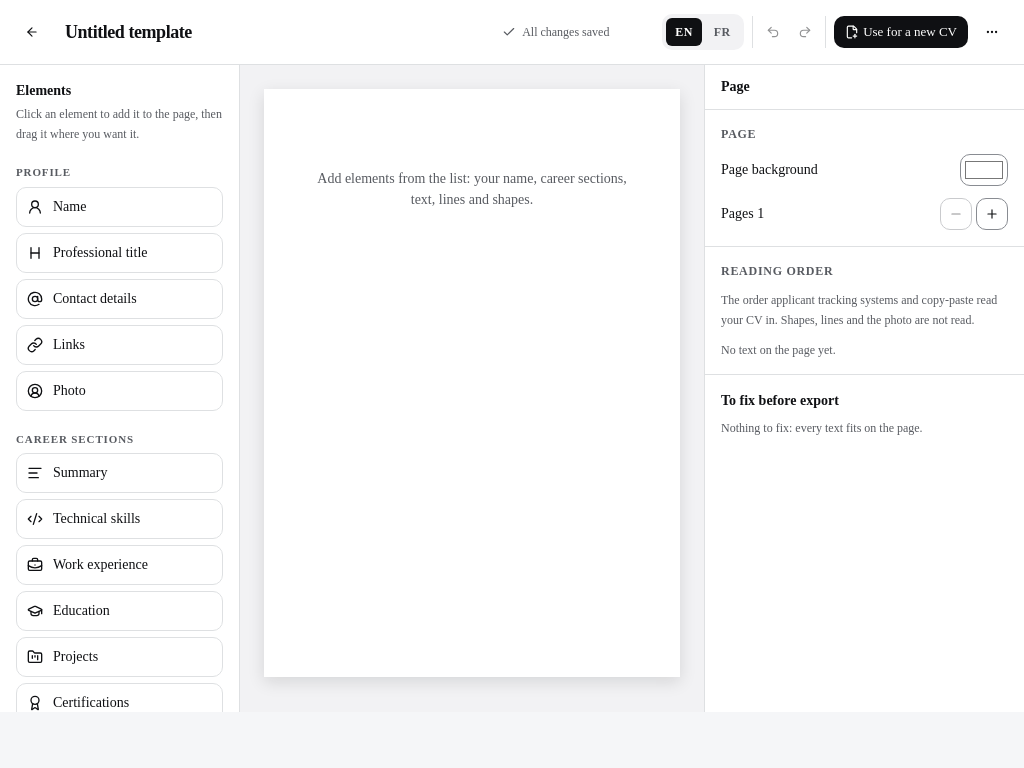
it: template designer › starts from a blank page and adds elements from the list
Expected: the text "Add elements from the list" is shown, [317,171,627,207]
Click the button with aria-label "Add Name": (120, 206) [16,186,223,226]
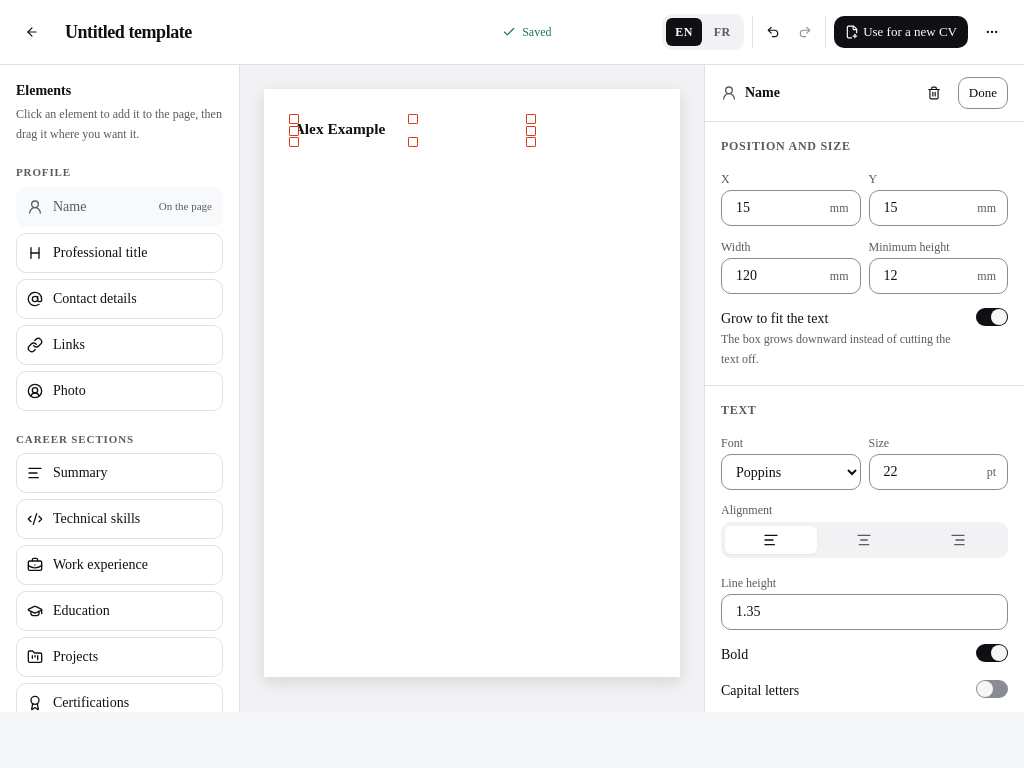
Expected: the heading "Name" is shown, [745,85,780,100]
Expected: the button "Name On the page" is disabled, [16,186,223,226]
